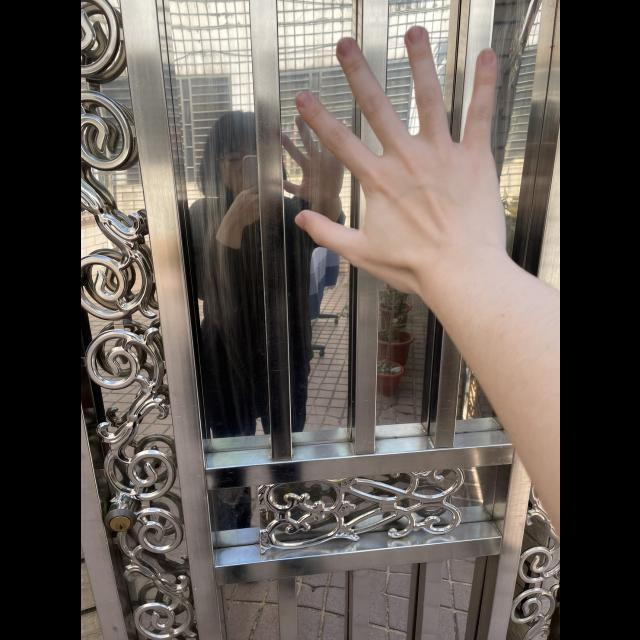bare_hand: (293, 24, 507, 282)
